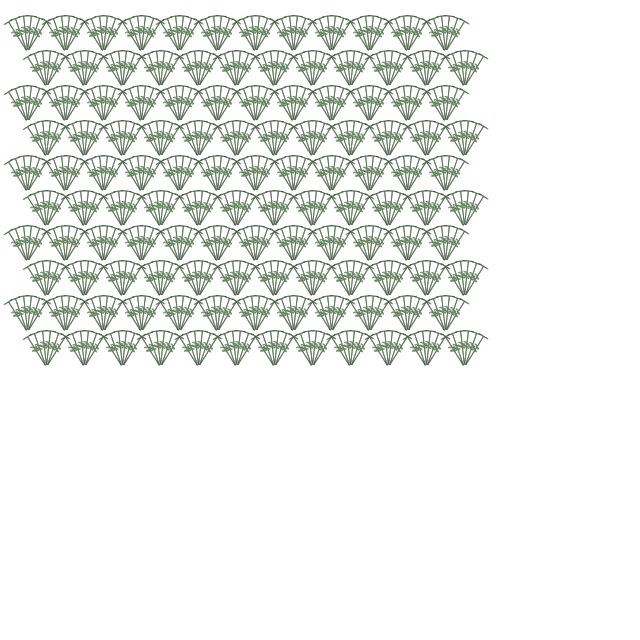fan: (2, 16, 34, 55), (22, 16, 54, 55), (40, 16, 72, 55), (60, 16, 92, 55), (78, 16, 110, 55), (98, 16, 130, 55), (116, 16, 148, 55), (136, 16, 168, 55), (154, 16, 186, 55), (174, 16, 206, 55), (192, 16, 224, 55), (212, 16, 244, 55), (230, 16, 262, 55), (250, 16, 282, 55), (268, 16, 300, 55), (288, 16, 320, 55), (306, 16, 338, 55), (326, 16, 358, 55), (344, 16, 376, 55), (364, 16, 396, 55), (382, 16, 414, 55), (402, 16, 434, 55), (420, 16, 452, 55), (440, 16, 472, 55), (21, 51, 53, 90), (41, 51, 73, 90), (59, 51, 91, 90), (79, 51, 111, 90), (97, 51, 129, 90), (117, 51, 149, 90), (135, 51, 167, 90), (155, 51, 187, 90), (173, 51, 205, 90), (193, 51, 225, 90), (211, 51, 243, 90), (231, 51, 263, 90), (249, 51, 281, 90), (269, 51, 301, 90), (287, 51, 319, 90), (307, 51, 339, 90), (325, 51, 357, 90), (345, 51, 377, 90), (363, 51, 395, 90), (383, 51, 415, 90), (401, 51, 433, 90), (421, 51, 453, 90), (439, 51, 471, 90), (459, 51, 491, 90), (2, 86, 34, 125), (22, 86, 54, 125), (40, 86, 72, 125), (60, 86, 92, 125), (78, 86, 110, 125), (98, 86, 130, 125), (116, 86, 148, 125), (136, 86, 168, 125), (154, 86, 186, 125), (174, 86, 206, 125), (192, 86, 224, 125), (212, 86, 244, 125), (230, 86, 262, 125), (250, 86, 282, 125), (268, 86, 300, 125), (288, 86, 320, 125), (306, 86, 338, 125), (326, 86, 358, 125), (344, 86, 376, 125), (364, 86, 396, 125), (382, 86, 414, 125), (402, 86, 434, 125), (420, 86, 452, 125), (440, 86, 472, 125), (21, 121, 53, 160), (41, 121, 73, 160), (59, 121, 91, 160), (79, 121, 111, 160), (97, 121, 129, 160), (117, 121, 149, 160), (135, 121, 167, 160), (155, 121, 187, 160), (173, 121, 205, 160), (193, 121, 225, 160), (211, 121, 243, 160), (231, 121, 263, 160), (249, 121, 281, 160), (269, 121, 301, 160), (287, 121, 319, 160), (307, 121, 339, 160), (325, 121, 357, 160), (345, 121, 377, 160), (363, 121, 395, 160), (383, 121, 415, 160), (401, 121, 433, 160), (421, 121, 453, 160), (439, 121, 471, 160), (459, 121, 491, 160), (2, 156, 34, 195), (22, 156, 54, 195), (40, 156, 72, 195), (60, 156, 92, 195), (78, 156, 110, 195), (98, 156, 130, 195), (116, 156, 148, 195), (136, 156, 168, 195), (154, 156, 186, 195), (174, 156, 206, 195), (192, 156, 224, 195), (212, 156, 244, 195), (230, 156, 262, 195), (250, 156, 282, 195), (268, 156, 300, 195), (288, 156, 320, 195), (306, 156, 338, 195), (326, 156, 358, 195), (344, 156, 376, 195), (364, 156, 396, 195), (382, 156, 414, 195), (402, 156, 434, 195), (420, 156, 452, 195), (440, 156, 472, 195), (21, 191, 53, 230), (41, 191, 73, 230), (59, 191, 91, 230), (79, 191, 111, 230), (97, 191, 129, 230), (117, 191, 149, 230), (135, 191, 167, 230), (155, 191, 187, 230), (173, 191, 205, 230), (193, 191, 225, 230), (211, 191, 243, 230), (231, 191, 263, 230), (249, 191, 281, 230), (269, 191, 301, 230), (287, 191, 319, 230), (307, 191, 339, 230), (325, 191, 357, 230), (345, 191, 377, 230), (363, 191, 395, 230), (383, 191, 415, 230), (401, 191, 433, 230), (421, 191, 453, 230), (439, 191, 471, 230), (459, 191, 491, 230), (2, 226, 34, 265), (22, 226, 54, 265), (40, 226, 72, 265), (60, 226, 92, 265), (78, 226, 110, 265), (98, 226, 130, 265), (116, 226, 148, 265), (136, 226, 168, 265), (154, 226, 186, 265), (174, 226, 206, 265), (192, 226, 224, 265), (212, 226, 244, 265), (230, 226, 262, 265), (250, 226, 282, 265), (268, 226, 300, 265), (288, 226, 320, 265), (306, 226, 338, 265), (326, 226, 358, 265), (344, 226, 376, 265), (364, 226, 396, 265), (382, 226, 414, 265), (402, 226, 434, 265), (420, 226, 452, 265), (440, 226, 472, 265), (21, 261, 53, 300), (41, 261, 73, 300), (59, 261, 91, 300), (79, 261, 111, 300), (97, 261, 129, 300), (117, 261, 149, 300), (135, 261, 167, 300), (155, 261, 187, 300), (173, 261, 205, 300), (193, 261, 225, 300), (211, 261, 243, 300), (231, 261, 263, 300), (249, 261, 281, 300), (269, 261, 301, 300), (287, 261, 319, 300), (307, 261, 339, 300), (325, 261, 357, 300), (345, 261, 377, 300), (363, 261, 395, 300), (383, 261, 415, 300), (401, 261, 433, 300), (421, 261, 453, 300), (439, 261, 471, 300), (459, 261, 491, 300), (2, 296, 34, 335), (22, 296, 54, 335), (40, 296, 72, 335), (60, 296, 92, 335), (78, 296, 110, 335), (98, 296, 130, 335), (116, 296, 148, 335), (136, 296, 168, 335), (154, 296, 186, 335), (174, 296, 206, 335), (192, 296, 224, 335), (212, 296, 244, 335), (230, 296, 262, 335), (250, 296, 282, 335), (268, 296, 300, 335), (288, 296, 320, 335), (306, 296, 338, 335), (326, 296, 358, 335), (344, 296, 376, 335), (364, 296, 396, 335), (382, 296, 414, 335), (402, 296, 434, 335), (420, 296, 452, 335), (440, 296, 472, 335), (21, 331, 53, 370), (41, 331, 73, 370), (59, 331, 91, 370), (79, 331, 111, 370), (97, 331, 129, 370), (117, 331, 149, 370), (135, 331, 167, 370), (155, 331, 187, 370), (173, 331, 205, 370), (193, 331, 225, 370), (211, 331, 243, 370), (231, 331, 263, 370), (249, 331, 281, 370), (269, 331, 301, 370), (287, 331, 319, 370), (307, 331, 339, 370), (325, 331, 357, 370), (345, 331, 377, 370), (363, 331, 395, 370), (383, 331, 415, 370), (401, 331, 433, 370), (421, 331, 453, 370), (439, 331, 471, 370), (459, 331, 491, 370), (9, 14, 34, 54), (22, 14, 47, 54), (47, 14, 72, 54), (60, 14, 85, 54), (85, 14, 110, 54), (98, 14, 123, 54), (123, 14, 148, 54), (136, 14, 161, 54), (161, 14, 186, 54), (174, 14, 199, 54), (199, 14, 224, 54), (212, 14, 237, 54), (237, 14, 262, 54), (250, 14, 275, 54), (275, 14, 300, 54), (288, 14, 313, 54), (313, 14, 338, 54), (326, 14, 351, 54), (351, 14, 376, 54), (364, 14, 389, 54), (389, 14, 414, 54), (402, 14, 427, 54), (427, 14, 452, 54), (440, 14, 465, 54), (28, 49, 53, 89), (41, 49, 66, 89), (66, 49, 91, 89), (79, 49, 104, 89), (104, 49, 129, 89), (117, 49, 142, 89), (142, 49, 167, 89), (155, 49, 180, 89), (180, 49, 205, 89), (193, 49, 218, 89), (218, 49, 243, 89), (231, 49, 256, 89), (256, 49, 281, 89), (269, 49, 294, 89), (294, 49, 319, 89), (307, 49, 332, 89), (332, 49, 357, 89), (345, 49, 370, 89), (370, 49, 395, 89), (383, 49, 408, 89), (408, 49, 433, 89), (421, 49, 446, 89), (446, 49, 471, 89), (459, 49, 484, 89), (9, 84, 34, 124), (22, 84, 47, 124), (47, 84, 72, 124), (60, 84, 85, 124), (85, 84, 110, 124), (98, 84, 123, 124), (123, 84, 148, 124), (136, 84, 161, 124), (161, 84, 186, 124), (174, 84, 199, 124), (199, 84, 224, 124), (212, 84, 237, 124), (237, 84, 262, 124), (250, 84, 275, 124), (275, 84, 300, 124), (288, 84, 313, 124), (313, 84, 338, 124), (326, 84, 351, 124), (351, 84, 376, 124), (364, 84, 389, 124), (389, 84, 414, 124), (402, 84, 427, 124), (427, 84, 452, 124), (440, 84, 465, 124), (28, 119, 53, 159), (41, 119, 66, 159), (66, 119, 91, 159), (79, 119, 104, 159), (104, 119, 129, 159), (117, 119, 142, 159), (142, 119, 167, 159), (155, 119, 180, 159), (180, 119, 205, 159), (193, 119, 218, 159), (218, 119, 243, 159), (231, 119, 256, 159), (256, 119, 281, 159), (269, 119, 294, 159), (294, 119, 319, 159), (307, 119, 332, 159), (332, 119, 357, 159), (345, 119, 370, 159), (370, 119, 395, 159), (383, 119, 408, 159), (408, 119, 433, 159), (421, 119, 446, 159), (446, 119, 471, 159), (459, 119, 484, 159), (9, 154, 34, 194), (22, 154, 47, 194), (47, 154, 72, 194), (60, 154, 85, 194), (85, 154, 110, 194), (98, 154, 123, 194), (123, 154, 148, 194), (136, 154, 161, 194), (161, 154, 186, 194), (174, 154, 199, 194), (199, 154, 224, 194), (212, 154, 237, 194), (237, 154, 262, 194), (250, 154, 275, 194), (275, 154, 300, 194), (288, 154, 313, 194), (313, 154, 338, 194), (326, 154, 351, 194), (351, 154, 376, 194), (364, 154, 389, 194), (389, 154, 414, 194), (402, 154, 427, 194), (427, 154, 452, 194), (440, 154, 465, 194), (28, 189, 53, 229), (41, 189, 66, 229), (66, 189, 91, 229), (79, 189, 104, 229), (104, 189, 129, 229), (117, 189, 142, 229), (142, 189, 167, 229), (155, 189, 180, 229), (180, 189, 205, 229), (193, 189, 218, 229), (218, 189, 243, 229), (231, 189, 256, 229), (256, 189, 281, 229), (269, 189, 294, 229), (294, 189, 319, 229), (307, 189, 332, 229), (332, 189, 357, 229), (345, 189, 370, 229), (370, 189, 395, 229), (383, 189, 408, 229), (408, 189, 433, 229), (421, 189, 446, 229), (446, 189, 471, 229), (459, 189, 484, 229), (9, 224, 34, 264), (22, 224, 47, 264), (47, 224, 72, 264), (60, 224, 85, 264), (85, 224, 110, 264), (98, 224, 123, 264), (123, 224, 148, 264), (136, 224, 161, 264), (161, 224, 186, 264), (174, 224, 199, 264), (199, 224, 224, 264), (212, 224, 237, 264), (237, 224, 262, 264), (250, 224, 275, 264), (275, 224, 300, 264), (288, 224, 313, 264), (313, 224, 338, 264), (326, 224, 351, 264), (351, 224, 376, 264), (364, 224, 389, 264), (389, 224, 414, 264), (402, 224, 427, 264), (427, 224, 452, 264), (440, 224, 465, 264), (28, 259, 53, 299), (41, 259, 66, 299), (66, 259, 91, 299), (79, 259, 104, 299), (104, 259, 129, 299), (117, 259, 142, 299), (142, 259, 167, 299), (155, 259, 180, 299), (180, 259, 205, 299), (193, 259, 218, 299), (218, 259, 243, 299), (231, 259, 256, 299), (256, 259, 281, 299), (269, 259, 294, 299), (294, 259, 319, 299), (307, 259, 332, 299), (332, 259, 357, 299), (345, 259, 370, 299), (370, 259, 395, 299), (383, 259, 408, 299), (408, 259, 433, 299), (421, 259, 446, 299), (446, 259, 471, 299), (459, 259, 484, 299), (9, 294, 34, 334), (22, 294, 47, 334), (47, 294, 72, 334), (60, 294, 85, 334), (85, 294, 110, 334), (98, 294, 123, 334), (123, 294, 148, 334), (136, 294, 161, 334), (161, 294, 186, 334), (174, 294, 199, 334), (199, 294, 224, 334), (212, 294, 237, 334), (237, 294, 262, 334), (250, 294, 275, 334), (275, 294, 300, 334), (288, 294, 313, 334), (313, 294, 338, 334), (326, 294, 351, 334), (351, 294, 376, 334), (364, 294, 389, 334), (389, 294, 414, 334), (402, 294, 427, 334), (427, 294, 452, 334), (440, 294, 465, 334), (28, 329, 53, 369), (41, 329, 66, 369), (66, 329, 91, 369), (79, 329, 104, 369), (104, 329, 129, 369), (117, 329, 142, 369), (142, 329, 167, 369), (155, 329, 180, 369), (180, 329, 205, 369), (193, 329, 218, 369), (218, 329, 243, 369), (231, 329, 256, 369), (256, 329, 281, 369), (269, 329, 294, 369), (294, 329, 319, 369), (307, 329, 332, 369), (332, 329, 357, 369), (345, 329, 370, 369), (370, 329, 395, 369), (383, 329, 408, 369), (408, 329, 433, 369), (421, 329, 446, 369), (446, 329, 471, 369), (459, 329, 484, 369), (17, 14, 34, 53), (22, 14, 39, 53), (55, 14, 72, 53), (60, 14, 77, 53), (93, 14, 110, 53), (98, 14, 115, 53), (131, 14, 148, 53), (136, 14, 153, 53), (169, 14, 186, 53), (174, 14, 191, 53), (207, 14, 224, 53), (212, 14, 229, 53), (245, 14, 262, 53), (250, 14, 267, 53), (283, 14, 300, 53), (288, 14, 305, 53), (321, 14, 338, 53), (326, 14, 343, 53), (359, 14, 376, 53), (364, 14, 381, 53), (397, 14, 414, 53), (402, 14, 419, 53), (435, 14, 452, 53), (440, 14, 457, 53), (36, 49, 53, 88), (41, 49, 58, 88), (74, 49, 91, 88), (79, 49, 96, 88), (112, 49, 129, 88), (117, 49, 134, 88), (150, 49, 167, 88), (155, 49, 172, 88), (188, 49, 205, 88), (193, 49, 210, 88), (226, 49, 243, 88), (231, 49, 248, 88), (264, 49, 281, 88), (269, 49, 286, 88), (302, 49, 319, 88), (307, 49, 324, 88), (340, 49, 357, 88), (345, 49, 362, 88), (378, 49, 395, 88), (383, 49, 400, 88), (416, 49, 433, 88), (421, 49, 438, 88), (454, 49, 471, 88), (459, 49, 476, 88), (17, 84, 34, 123), (22, 84, 39, 123), (55, 84, 72, 123), (60, 84, 77, 123), (93, 84, 110, 123), (98, 84, 115, 123), (131, 84, 148, 123), (136, 84, 153, 123), (169, 84, 186, 123), (174, 84, 191, 123), (207, 84, 224, 123), (212, 84, 229, 123), (245, 84, 262, 123), (250, 84, 267, 123), (283, 84, 300, 123), (288, 84, 305, 123), (321, 84, 338, 123), (326, 84, 343, 123), (359, 84, 376, 123), (364, 84, 381, 123), (397, 84, 414, 123), (402, 84, 419, 123), (435, 84, 452, 123), (440, 84, 457, 123), (36, 119, 53, 158), (41, 119, 58, 158), (74, 119, 91, 158), (79, 119, 96, 158), (112, 119, 129, 158), (117, 119, 134, 158), (150, 119, 167, 158), (155, 119, 172, 158), (188, 119, 205, 158), (193, 119, 210, 158), (226, 119, 243, 158), (231, 119, 248, 158), (264, 119, 281, 158), (269, 119, 286, 158), (302, 119, 319, 158), (307, 119, 324, 158), (340, 119, 357, 158), (345, 119, 362, 158), (378, 119, 395, 158), (383, 119, 400, 158), (416, 119, 433, 158), (421, 119, 438, 158), (454, 119, 471, 158), (459, 119, 476, 158), (17, 154, 34, 193), (22, 154, 39, 193), (55, 154, 72, 193), (60, 154, 77, 193), (93, 154, 110, 193), (98, 154, 115, 193), (131, 154, 148, 193), (136, 154, 153, 193), (169, 154, 186, 193), (174, 154, 191, 193), (207, 154, 224, 193), (212, 154, 229, 193), (245, 154, 262, 193), (250, 154, 267, 193), (283, 154, 300, 193), (288, 154, 305, 193), (321, 154, 338, 193), (326, 154, 343, 193), (359, 154, 376, 193), (364, 154, 381, 193), (397, 154, 414, 193), (402, 154, 419, 193), (435, 154, 452, 193), (440, 154, 457, 193), (36, 189, 53, 228), (41, 189, 58, 228), (74, 189, 91, 228), (79, 189, 96, 228), (112, 189, 129, 228), (117, 189, 134, 228), (150, 189, 167, 228), (155, 189, 172, 228), (188, 189, 205, 228), (193, 189, 210, 228), (226, 189, 243, 228), (231, 189, 248, 228), (264, 189, 281, 228), (269, 189, 286, 228), (302, 189, 319, 228), (307, 189, 324, 228), (340, 189, 357, 228), (345, 189, 362, 228), (378, 189, 395, 228), (383, 189, 400, 228), (416, 189, 433, 228), (421, 189, 438, 228), (454, 189, 471, 228), (459, 189, 476, 228), (17, 224, 34, 263), (22, 224, 39, 263), (55, 224, 72, 263), (60, 224, 77, 263), (93, 224, 110, 263), (98, 224, 115, 263), (131, 224, 148, 263), (136, 224, 153, 263), (169, 224, 186, 263), (174, 224, 191, 263), (207, 224, 224, 263), (212, 224, 229, 263), (245, 224, 262, 263), (250, 224, 267, 263), (283, 224, 300, 263), (288, 224, 305, 263), (321, 224, 338, 263), (326, 224, 343, 263), (359, 224, 376, 263), (364, 224, 381, 263), (397, 224, 414, 263), (402, 224, 419, 263), (435, 224, 452, 263), (440, 224, 457, 263), (36, 259, 53, 298), (41, 259, 58, 298), (74, 259, 91, 298), (79, 259, 96, 298), (112, 259, 129, 298), (117, 259, 134, 298), (150, 259, 167, 298), (155, 259, 172, 298), (188, 259, 205, 298), (193, 259, 210, 298), (226, 259, 243, 298), (231, 259, 248, 298), (264, 259, 281, 298), (269, 259, 286, 298), (302, 259, 319, 298), (307, 259, 324, 298), (340, 259, 357, 298), (345, 259, 362, 298), (378, 259, 395, 298), (383, 259, 400, 298), (416, 259, 433, 298), (421, 259, 438, 298), (454, 259, 471, 298), (459, 259, 476, 298), (17, 294, 34, 333), (22, 294, 39, 333), (55, 294, 72, 333), (60, 294, 77, 333), (93, 294, 110, 333), (98, 294, 115, 333), (131, 294, 148, 333), (136, 294, 153, 333), (169, 294, 186, 333), (174, 294, 191, 333), (207, 294, 224, 333), (212, 294, 229, 333), (245, 294, 262, 333), (250, 294, 267, 333), (283, 294, 300, 333), (288, 294, 305, 333), (321, 294, 338, 333), (326, 294, 343, 333), (359, 294, 376, 333), (364, 294, 381, 333), (397, 294, 414, 333), (402, 294, 419, 333), (435, 294, 452, 333), (440, 294, 457, 333), (36, 329, 53, 368), (41, 329, 58, 368), (74, 329, 91, 368), (79, 329, 96, 368), (112, 329, 129, 368), (117, 329, 134, 368), (150, 329, 167, 368), (155, 329, 172, 368), (188, 329, 205, 368), (193, 329, 210, 368), (226, 329, 243, 368), (231, 329, 248, 368), (264, 329, 281, 368), (269, 329, 286, 368), (302, 329, 319, 368), (307, 329, 324, 368), (340, 329, 357, 368), (345, 329, 362, 368), (378, 329, 395, 368), (383, 329, 400, 368), (416, 329, 433, 368), (421, 329, 438, 368), (454, 329, 471, 368), (459, 329, 476, 368)
